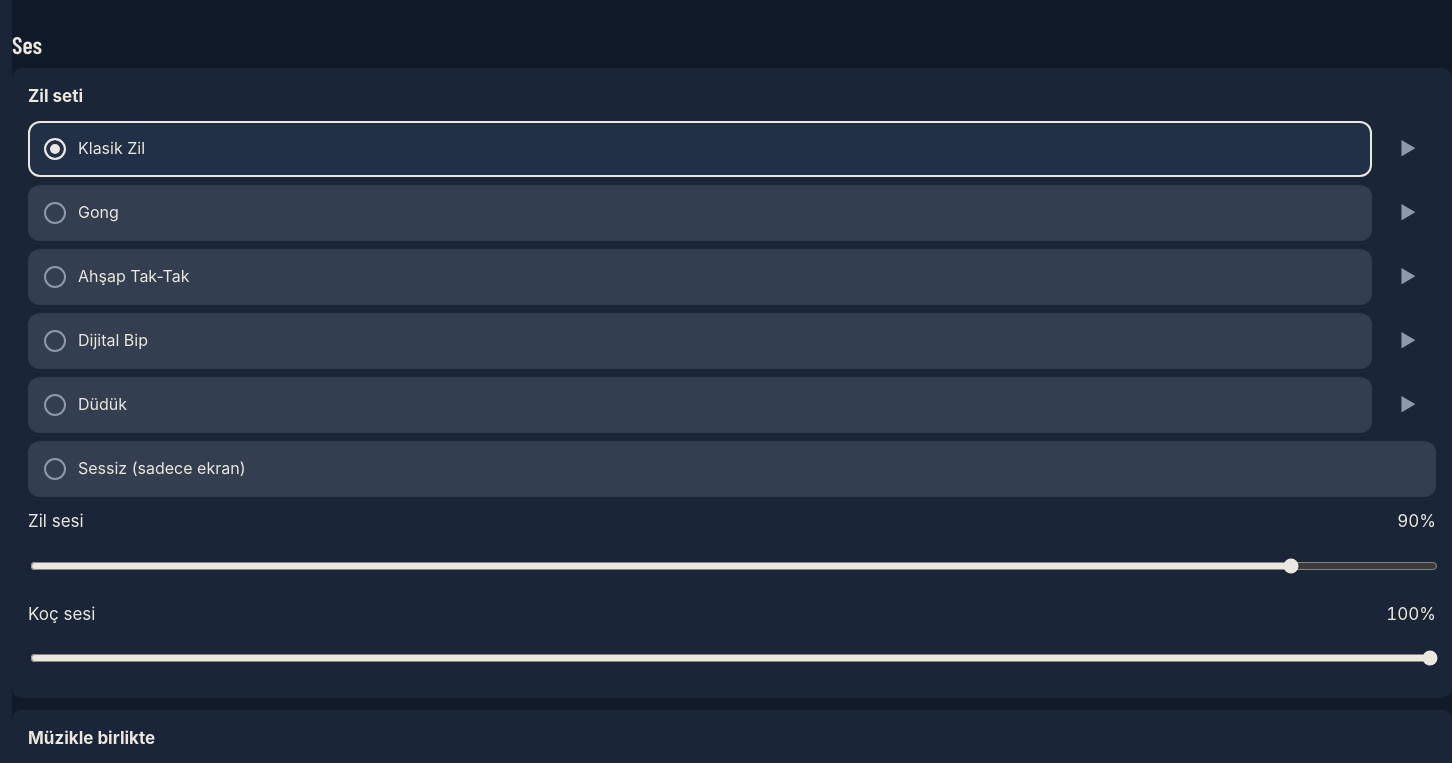
Ses ayarları ekranı › 6 zil seti listelenir ve seçim kaydedilir
Click the radio button labelled "Gong".
click(98, 212)  # box [28,185,1372,241]
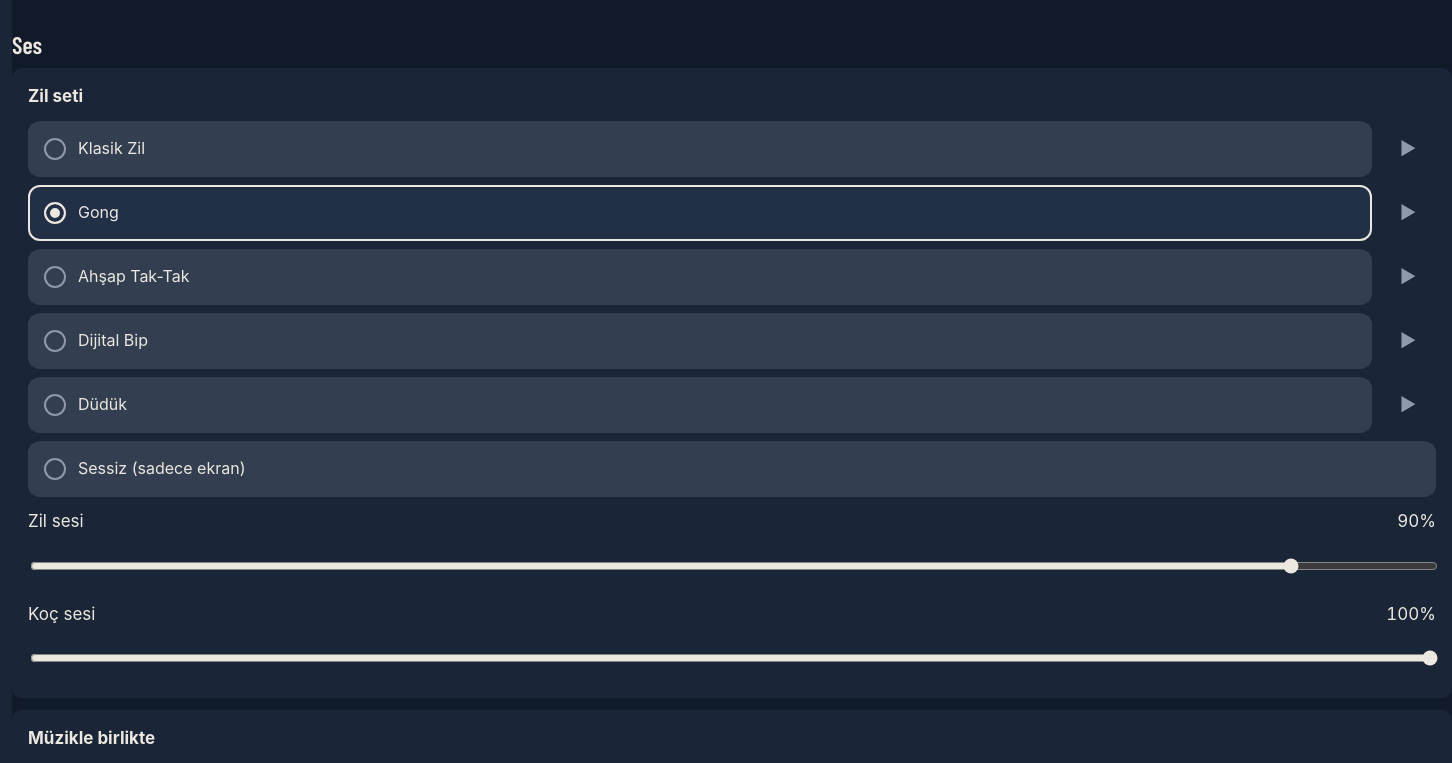
Expected: the radio button labelled "Gong" is checked, [28,185,1372,241]
